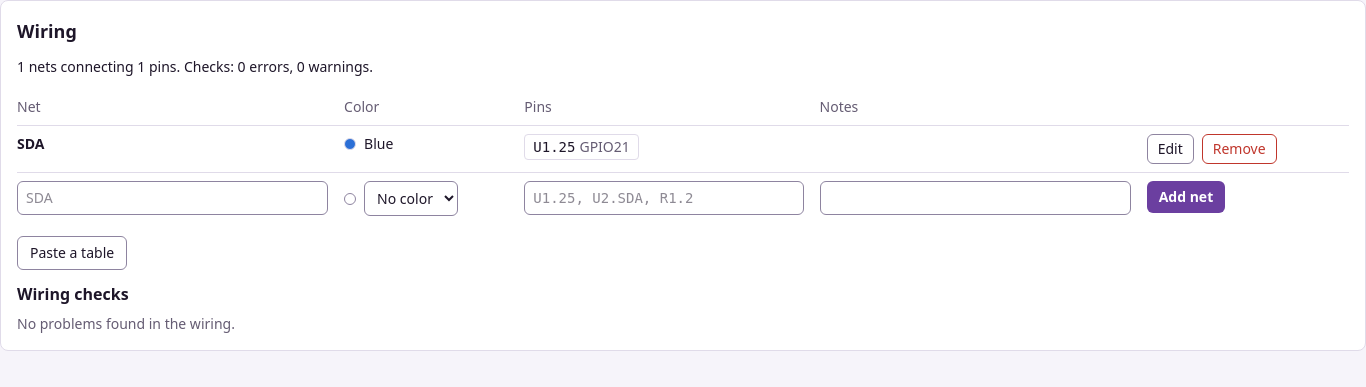
it: the netlist editor › shows a refused pin on its field, naming the reference and its candidates
This screenshot has width=1366, height=387.
Type "GND" into the field named "Net name".
click(173, 198); type("GND")  # box x1=17 y1=181 x2=328 y2=215
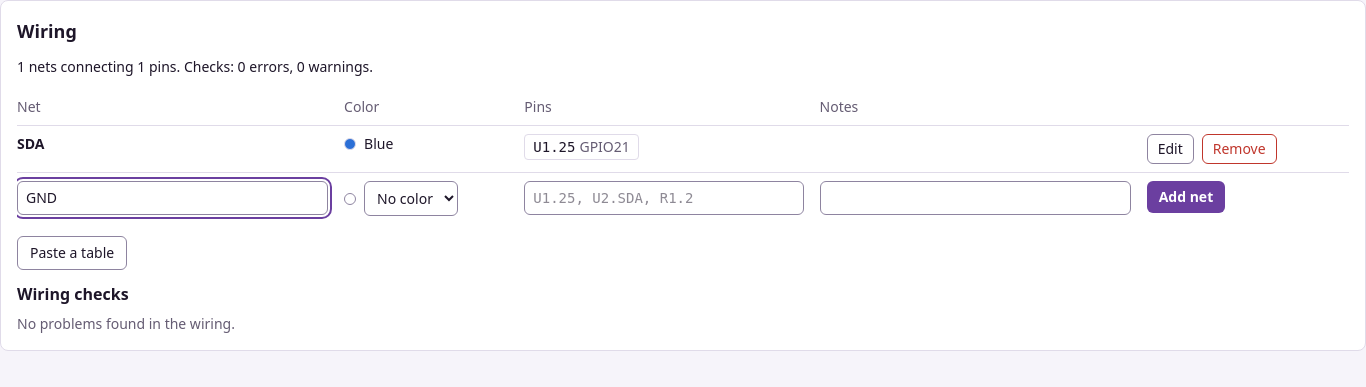
Type "U1.GND" into the dropdown named "Pins".
click(664, 198); type("U1.GND")  # box x1=524 y1=181 x2=804 y2=215
Then press Escape, Enter
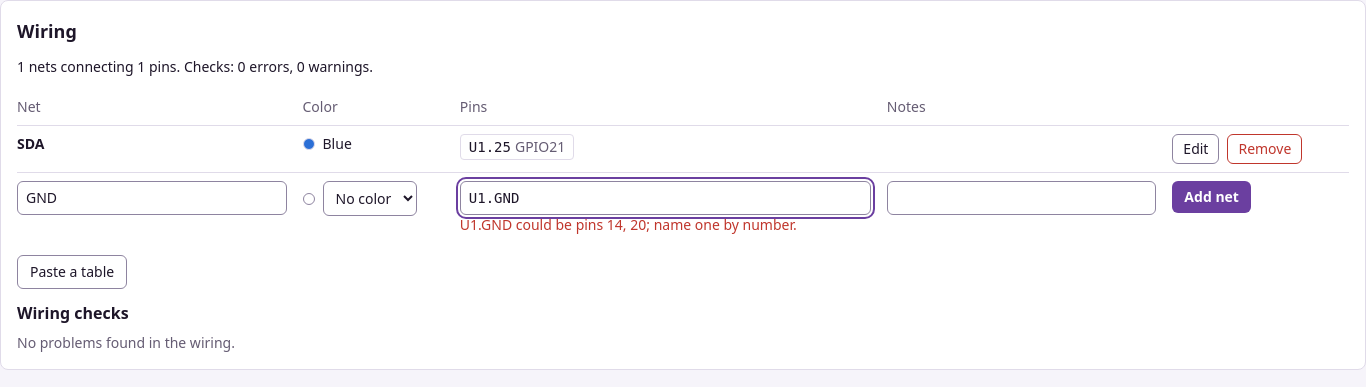
Check: the text "U1.GND could be pins 14, 20; name one by number." is shown, box x1=460 y1=215 x2=797 y2=234
